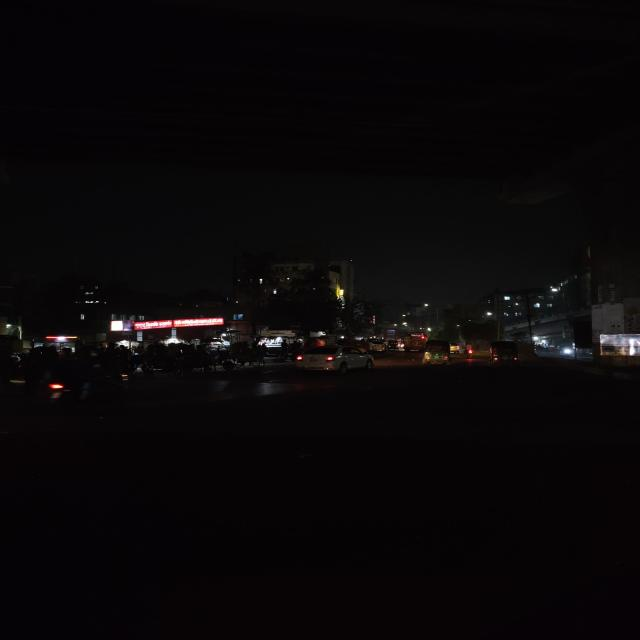car: (291, 341, 375, 375)
cng: (485, 338, 525, 368), (419, 339, 455, 367)
motorcycle: (462, 341, 479, 359)
rickshaw: (91, 339, 140, 384), (129, 339, 184, 378), (169, 341, 216, 375), (228, 340, 268, 370), (264, 337, 299, 361)
